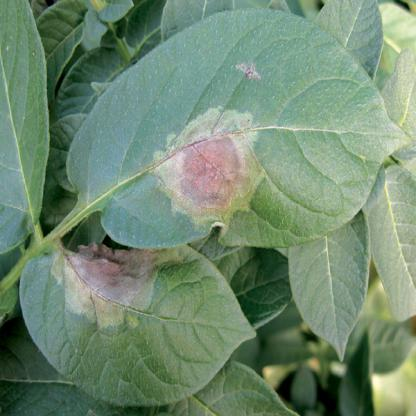potato leaf early blight: (64, 4, 413, 252), (19, 239, 260, 401)
